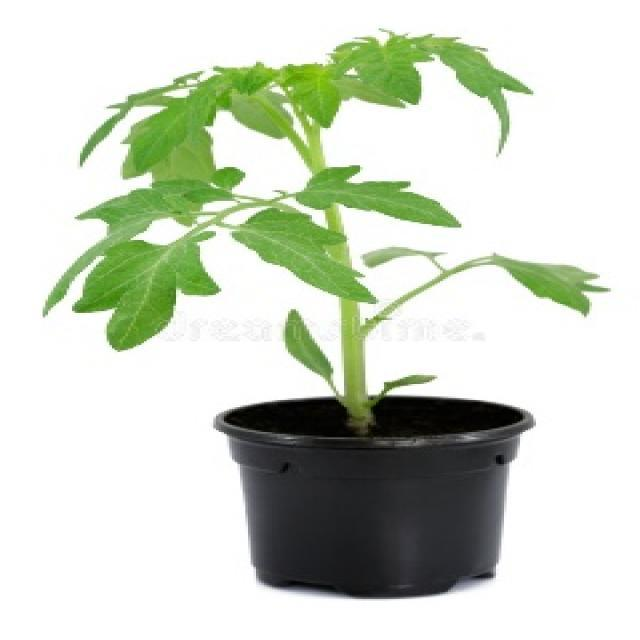tomato: (45, 34, 608, 435)
